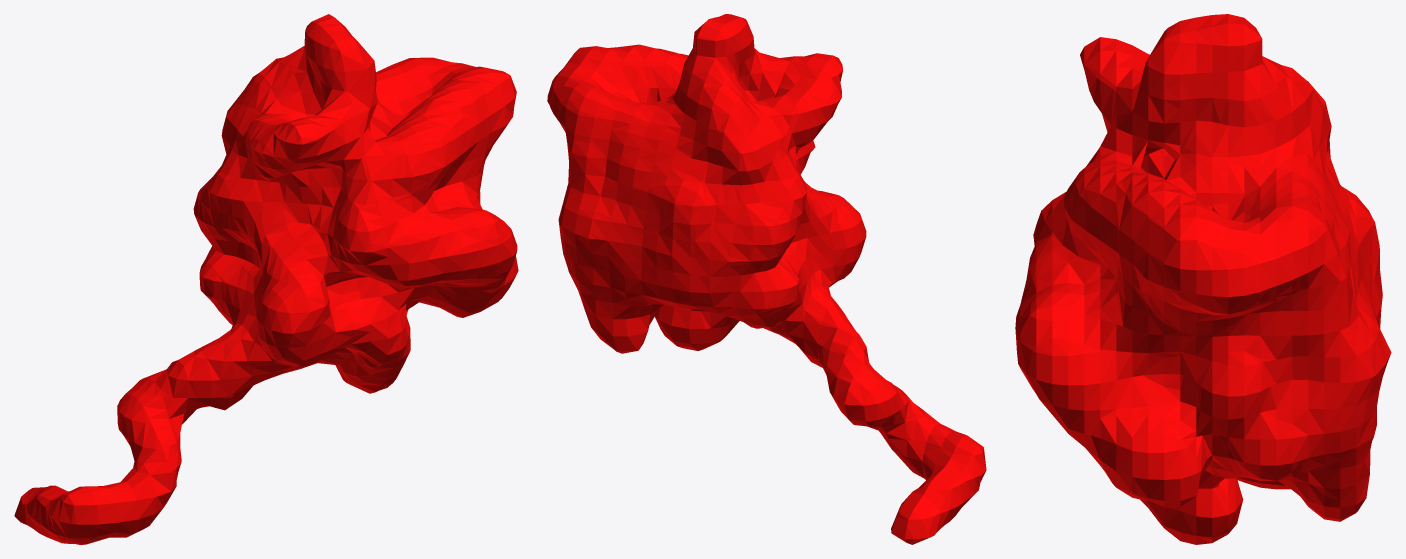
The model's file is adeP_coarse.dae.
The picture shows the model from 3 angles, left to right: view 1: azimuth 30°, elevation 25°; view 2: azimuth 150°, elevation 25°; view 3: azimuth 270°, elevation 25°; orthographic projection. The views are drawn at different scales.
Parts seen in each view (by area): view 1: adeP; view 2: adeP; view 3: adeP.
Boxes of the visible parts, left/top/right/bottom form: adeP: left=14, top=14, right=518, bottom=544; adeP: left=547, top=14, right=986, bottom=544; adeP: left=1015, top=14, right=1391, bottom=544.
Size of the model in its own units: 96.86 by 95.54 by 50.87.
